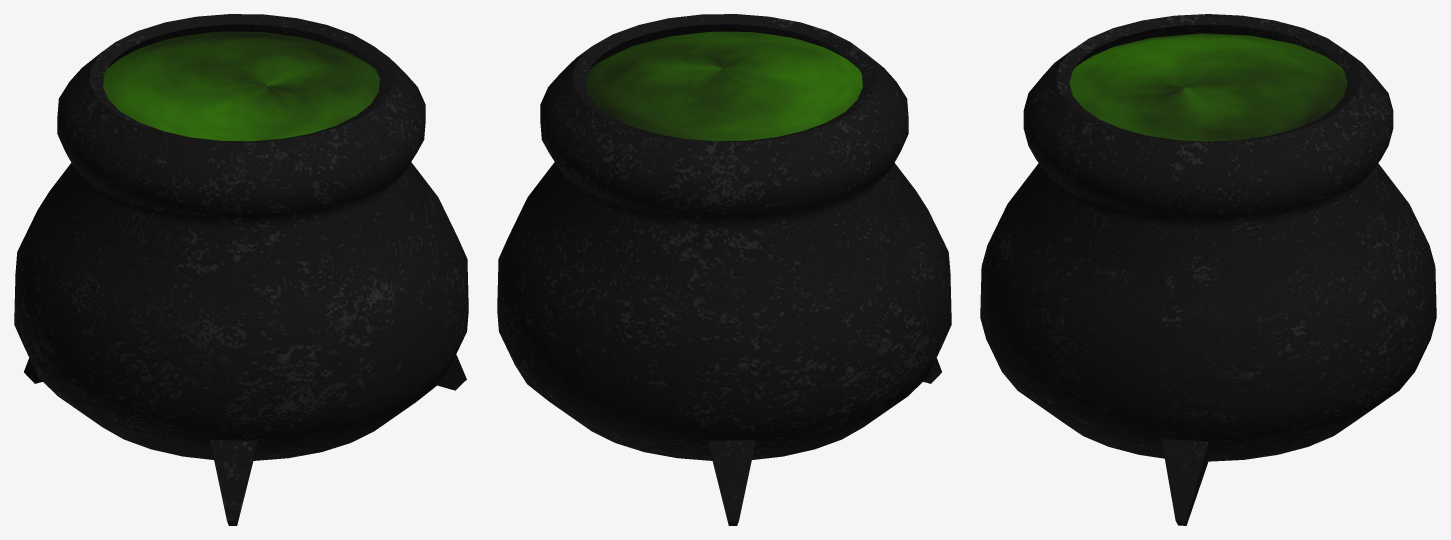
File: cauldron_done.fbx
The picture shows the model from 3 angles, left to right: view 1: azimuth 30°, elevation 25°; view 2: azimuth 150°, elevation 25°; view 3: azimuth 270°, elevation 25°; orthographic projection.
Parts seen in each view (by area): view 1: cauldron, pSphere1; view 2: cauldron, pSphere1; view 3: cauldron, pSphere1.
Boxes of the visible parts, box(x1,y1,x2,y2) form: cauldron: box(14, 14, 468, 525); pSphere1: box(103, 31, 379, 141); cauldron: box(497, 14, 951, 525); pSphere1: box(586, 31, 862, 141); cauldron: box(980, 14, 1436, 525); pSphere1: box(1069, 33, 1347, 141).
Size of the model in its own units: 3.99 by 3.28 by 3.87.
